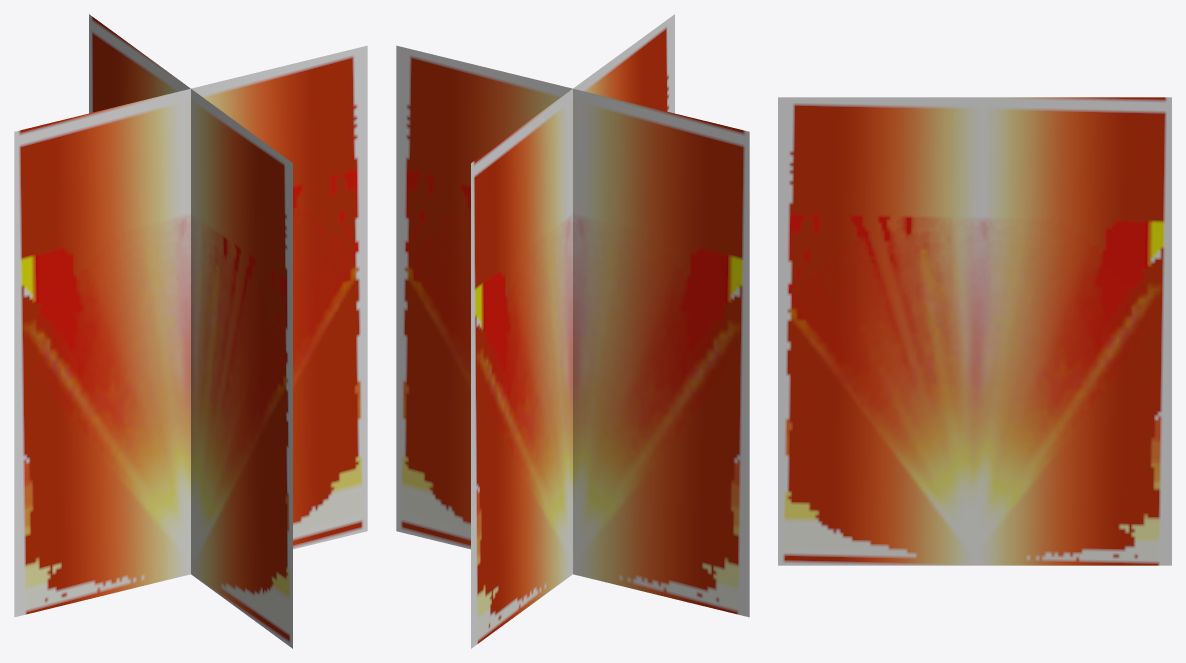
Rendered from model_cym000003.FBX.
3 views of the same model, side by side, from view 1: azimuth 30°, elevation 25°; view 2: azimuth 150°, elevation 25°; view 3: azimuth 270°, elevation 25° (orthographic). The views are drawn at different scales.
Visible parts, largest first — view 1: model_cym000001; view 2: model_cym000001; view 3: model_cym000001.
Boxes of the visible parts, bbox=[...] form: model_cym000001: bbox=[14, 14, 367, 648]; model_cym000001: bbox=[396, 14, 749, 648]; model_cym000001: bbox=[778, 97, 1171, 565].
Size of the model in its own units: 22.86 by 30.02 by 22.86.
